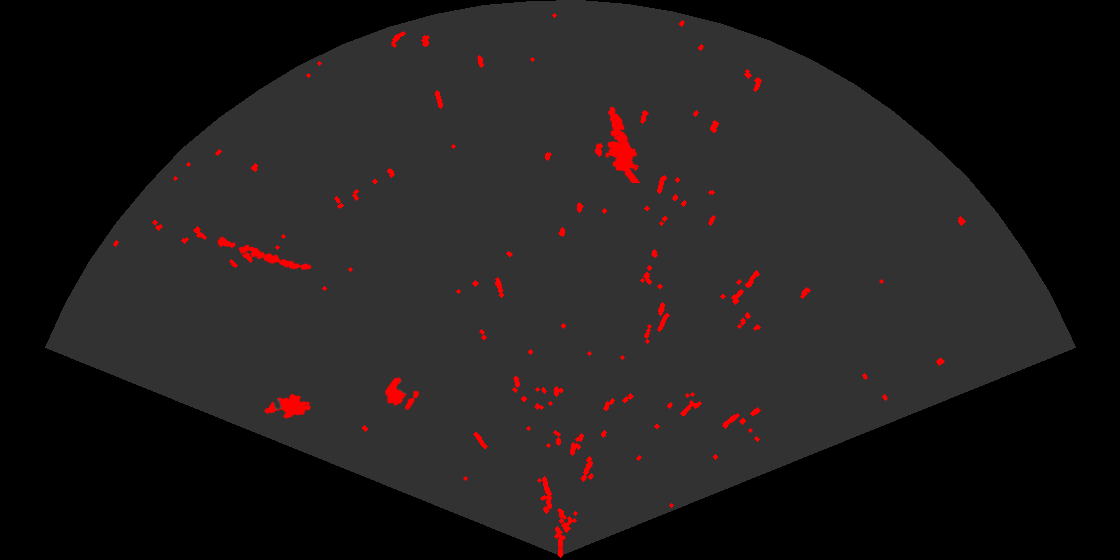AUV: (263, 392, 313, 420)
ball: (383, 376, 421, 411)
chain: (215, 235, 313, 272)
frogman: (604, 105, 642, 183)
